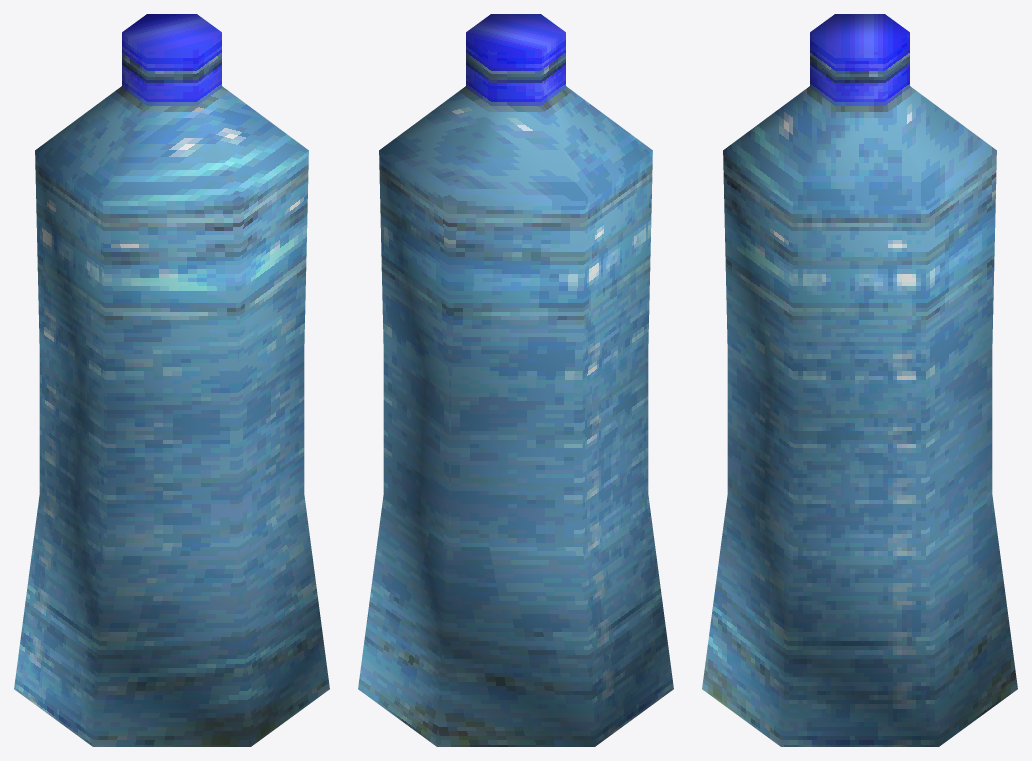
The model's file is waterbottle.glb.
3 views of the same model, side by side, from view 1: azimuth 30°, elevation 25°; view 2: azimuth 150°, elevation 25°; view 3: azimuth 270°, elevation 25° (orthographic).
Parts seen in each view (by area): view 1: WaterBottle; view 2: WaterBottle; view 3: WaterBottle.
Boxes of the visible parts, x1,y1,x2,y2 form: WaterBottle: [14, 14, 329, 746]; WaterBottle: [358, 14, 673, 746]; WaterBottle: [702, 14, 1017, 746].
Size of the model in its own units: 0.207 by 0.5483 by 0.239.
1 material, 1 textured.
